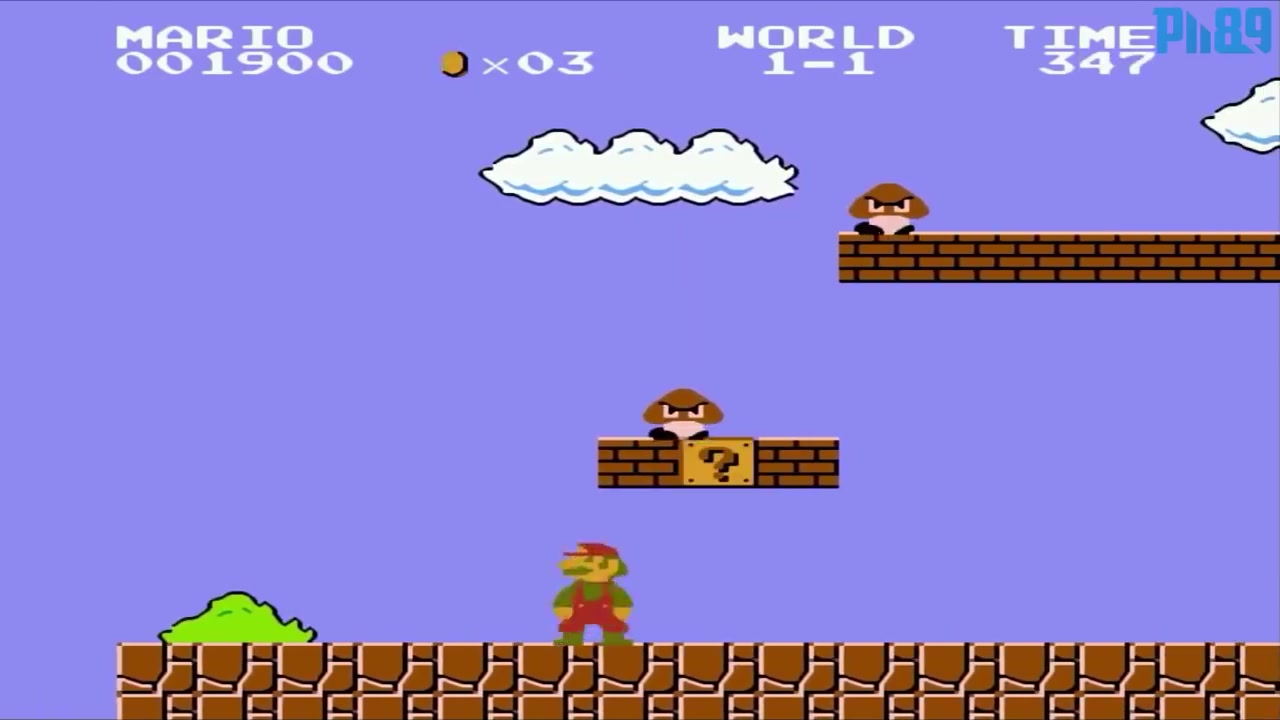mario: (532, 531, 647, 646)
